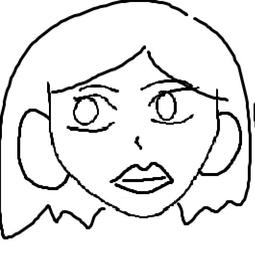cupid_mouth: (108, 159, 177, 196)
ear: (199, 109, 244, 182)
eye: (61, 92, 123, 133), (141, 87, 196, 128)
eyebrow: (78, 82, 119, 93), (138, 77, 175, 89)
large_ear: (11, 105, 68, 195)
pointy_nose: (132, 134, 147, 150)
